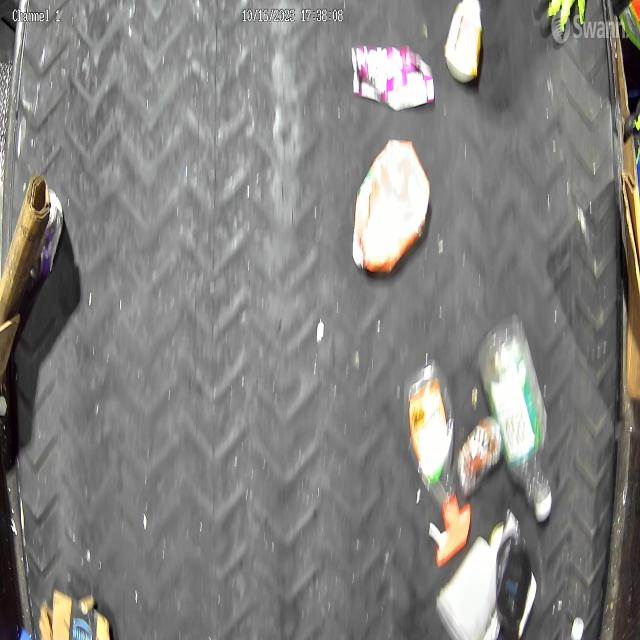non_white_jug: (351, 134, 429, 272)
plastic_bottle: (480, 322, 554, 518)
